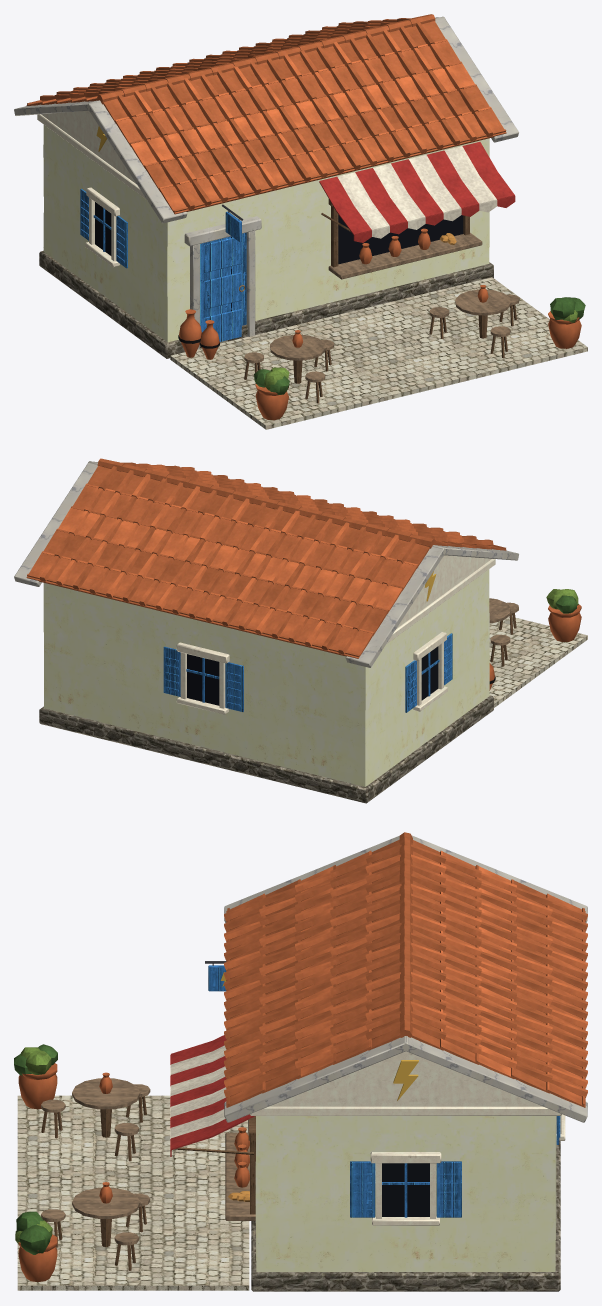
Rendered from biz_cafe_t1.glb.
3 views of the same model, one above another, from view 1: azimuth 30°, elevation 25°; view 2: azimuth 150°, elevation 25°; view 3: azimuth 270°, elevation 25° (orthographic). The views are drawn at different scales.
Visible parts, largest first — view 1: plaster, paving, terracotta1, terracotta0, terracotta2, marble, cloth_red, stone_dark, azure_wood, cloth_cream, wood, cream (+4 smaller); view 2: plaster, terracotta1, terracotta0, terracotta2, stone_dark, cream, marble, paving, azure_wood, dark, terracotta, wood; view 3: plaster, paving, terracotta1, terracotta0, terracotta2, cream, marble, stone_dark, wood, azure_wood, terracotta, cloth_red (+5 smaller).
Part boxes in pixels (<box>): plaster: <box>43,125,489,342</box>; paving: <box>170,277,587,429</box>; terracotta1: <box>27,14,506,212</box>; terracotta0: <box>26,19,506,214</box>; terracotta2: <box>42,20,491,201</box>; marble: <box>14,16,518,349</box>; cloth_red: <box>319,142,515,242</box>; stone_dark: <box>39,250,493,358</box>; azure_wood: <box>80,188,246,341</box>; cloth_cream: <box>337,146,497,238</box>; wood: <box>244,232,519,382</box>; cream: <box>37,110,146,267</box>; plaster: <box>43,569,489,786</box>; terracotta1: <box>27,458,505,656</box>; terracotta0: <box>26,463,506,658</box>; terracotta2: <box>41,464,491,646</box>; stone_dark: <box>39,695,493,803</box>; cream: <box>176,555,495,714</box>; marble: <box>14,461,518,667</box>; paving: <box>489,616,587,707</box>; azure_wood: <box>163,633,452,712</box>; dark: <box>187,646,438,705</box>; terracotta: <box>489,604,581,690</box>; wood: <box>489,598,518,645</box>; plaster: <box>255,1116,556,1272</box>; paving: <box>17,1095,249,1290</box>; terracotta1: <box>224,832,587,1106</box>; terracotta0: <box>224,852,587,1107</box>; terracotta2: <box>224,850,587,1091</box>; cream: <box>250,1051,565,1225</box>; marble: <box>224,835,587,1132</box>; stone_dark: <box>251,1141,560,1291</box>; wood: <box>41,1078,255,1245</box>; azure_wood: <box>208,965,560,1217</box>; terracotta: <box>18,1063,249,1281</box>; cloth_red: <box>170,1035,254,1156</box>.
Size of the model in its own units: 7.3 by 4.3 by 8.42.
22 materials, 19 textured.
